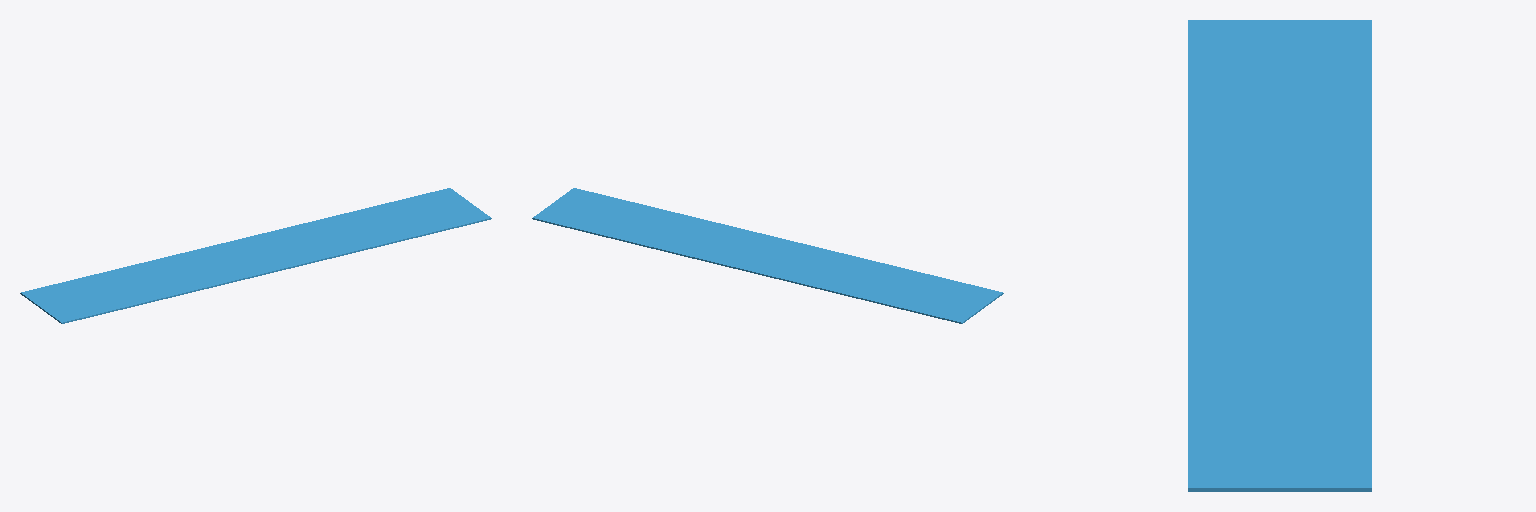
The robot description file, URDF, robot "conveyor_belt":
<?xml version="1.0" ?>
<robot name="conveyor_belt">
  <link name="world"/>
  <link name="conveyor_belt">
    <inertial>
      <origin xyz="0.5 0.5 0.6" /> 
      <mass value="1.0" />
      <inertia  ixx="1.0" ixy="0.0"  ixz="0.0"  iyy="100.0"  iyz="0.0"  izz="1.0" />
    </inertial>
    <visual>
      <origin xyz="0.5 0.5 0.6"/>
      <geometry>
        <box size="3 0.5 0.01" />
      </geometry>
    </visual>
    <collision>
      <origin xyz="0.5 0.5 0.6"/>
      <geometry>
        <box size="3 0.5 0.01" />
      </geometry>
    </collision>
  </link>
  <joint name="fixed" type="fixed">
    <parent link="world"/>
    <child link="conveyor_belt"/>
  </joint>
  <gazebo reference="conveyor_belt">
    <material>Gazebo/FlatBlack</material>
  </gazebo>
  <gazebo reference="conveyor_belt">
    <turnGravityOff>true</turnGravityOff>
  </gazebo>
</robot>

--- What the picture shows (computed from the rendered views, not written in the file) ---
Views: 3 orthographic renders of the robot side by side, from view 1: azimuth 30°, elevation 25°; view 2: azimuth 150°, elevation 25°; view 3: azimuth 270°, elevation 25°.
Model conveyor_belt with 2 links and 1 joints (1 fixed), rooted at world, posed every joint at zero.
Links seen in each view (by area): view 1: conveyor_belt; view 2: conveyor_belt; view 3: conveyor_belt.
Link boxes in pixels (box(x1,y1,x2,y2)): conveyor_belt: box(20, 188, 491, 323); conveyor_belt: box(532, 188, 1003, 323); conveyor_belt: box(1188, 20, 1371, 491).
Bounding box of the posed robot: 3 × 0.5 × 0.01 m (x, y, z).
Geometry: primitives only (box / cylinder / sphere), no mesh files.
